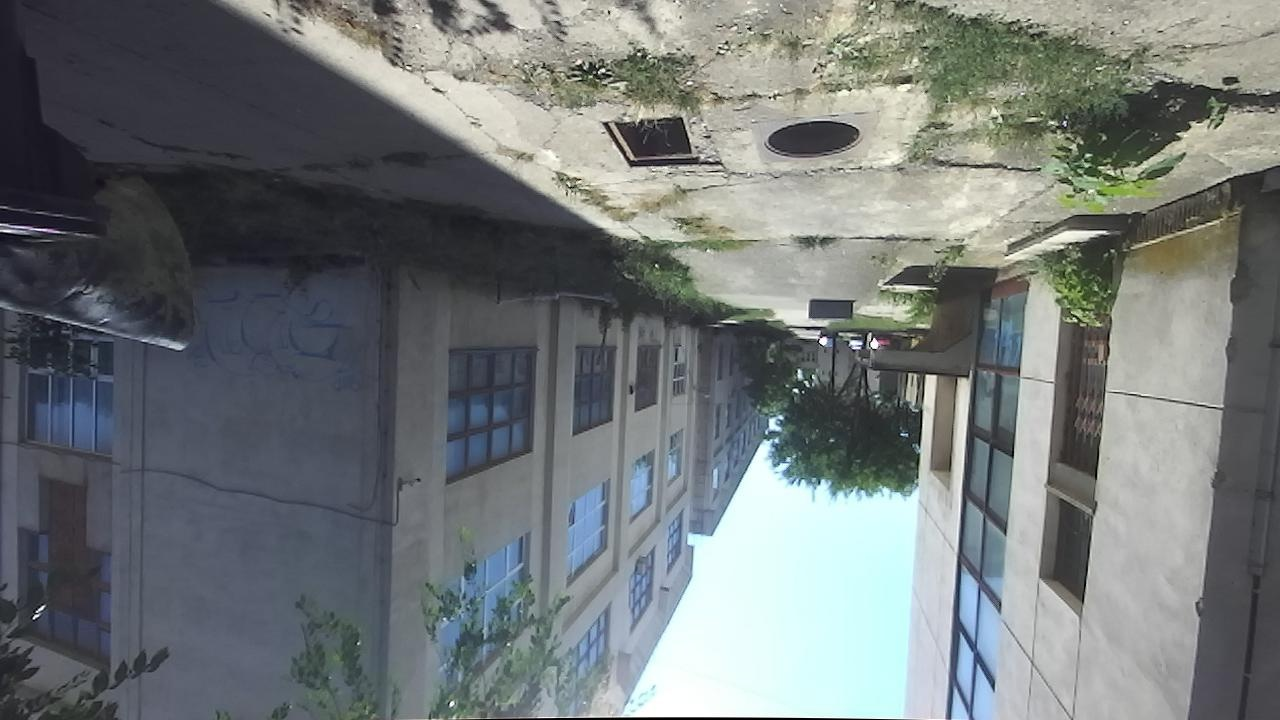drain: (597, 114, 702, 169), (758, 118, 867, 162)
